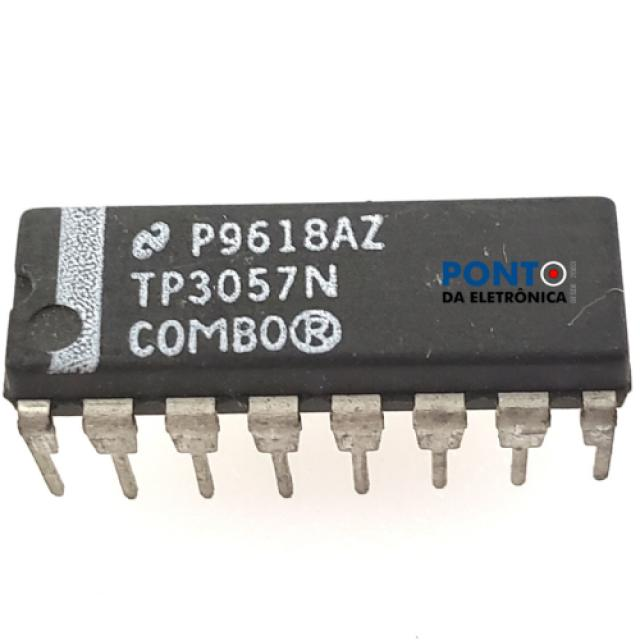IC: (6, 201, 630, 496)
